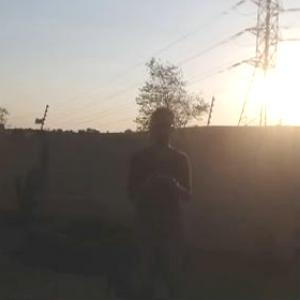follow: (121, 102, 196, 299)
